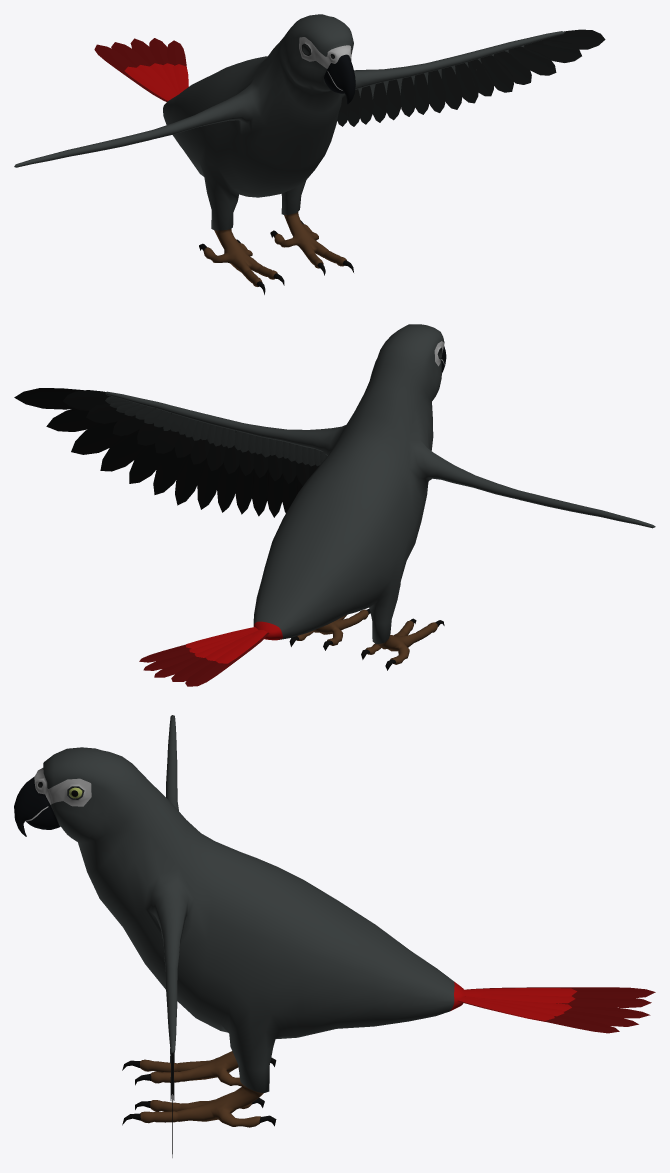
Rendered from parrot.obj.
3 renders of one model, top to bottom at view 1: azimuth 30°, elevation 25°; view 2: azimuth 150°, elevation 25°; view 3: azimuth 270°, elevation 25°, orthographic. The views are drawn at different scales.
Visible parts, largest first — view 1: parrot, feather_flight_secondary_032, feather_flight_secondary_031, feather_flight_secondary_030, feather_flight_secondary_029, feather_flight_secondary_028, feather_tail_primary_005, feather_flight_secondary_025, feather_flight_secondary_026, feather_flight_secondary_024, feather_flight_secondary_027, feather_flight_secondary_023 (+5 smaller); view 2: parrot, feather_flight_primary_014, feather_flight_primary_013, feather_flight_primary_016, feather_flight_primary_010, feather_flight_primary_011, feather_flight_primary_012, feather_flight_primary_015, feather_flight_primary_009, feather_flight_primary_008, feather_tail_primary_005, feather_flight_secondary_032 (+5 smaller); view 3: parrot, feather_tail_primary_005, feather_tail_secondary_005, feather_tail_primary_001, feather_tail_primary_004, feather_tail_secondary_001, feather_tail_secondary_004.
Part boxes in pixels (x1,y1,x2,y2): parrot: [14, 14, 564, 294]; feather_flight_secondary_032: [542, 29, 605, 49]; feather_flight_secondary_031: [524, 39, 581, 62]; feather_flight_secondary_030: [508, 46, 556, 75]; feather_flight_secondary_029: [493, 51, 531, 84]; feather_flight_secondary_028: [480, 55, 513, 92]; feather_tail_primary_005: [94, 44, 167, 101]; feather_flight_secondary_025: [441, 66, 462, 109]; feather_flight_secondary_026: [455, 63, 478, 103]; feather_flight_secondary_024: [427, 70, 446, 112]; feather_flight_secondary_027: [467, 59, 493, 96]; feather_flight_secondary_023: [413, 73, 430, 114]; parrot: [105, 324, 655, 670]; feather_flight_primary_014: [71, 421, 139, 454]; feather_flight_primary_013: [100, 431, 150, 471]; feather_flight_primary_016: [14, 388, 86, 409]; feather_flight_primary_010: [175, 453, 206, 505]; feather_flight_primary_011: [153, 447, 189, 494]; feather_flight_primary_012: [129, 443, 170, 483]; feather_flight_primary_015: [46, 408, 109, 431]; feather_flight_primary_009: [197, 458, 223, 509]; feather_flight_primary_008: [217, 462, 239, 512]; feather_tail_primary_005: [185, 632, 269, 686]; feather_flight_secondary_032: [63, 390, 110, 410]; parrot: [14, 715, 464, 1127]; feather_tail_primary_005: [467, 987, 655, 998]; feather_tail_secondary_005: [464, 988, 576, 996]; feather_tail_primary_001: [458, 1000, 619, 1033]; feather_tail_primary_004: [556, 997, 651, 1007]; feather_tail_secondary_001: [458, 997, 554, 1020]; feather_tail_secondary_004: [464, 993, 575, 1003].
Size of the model in its own units: 0.476 by 0.1955 by 0.3284.
